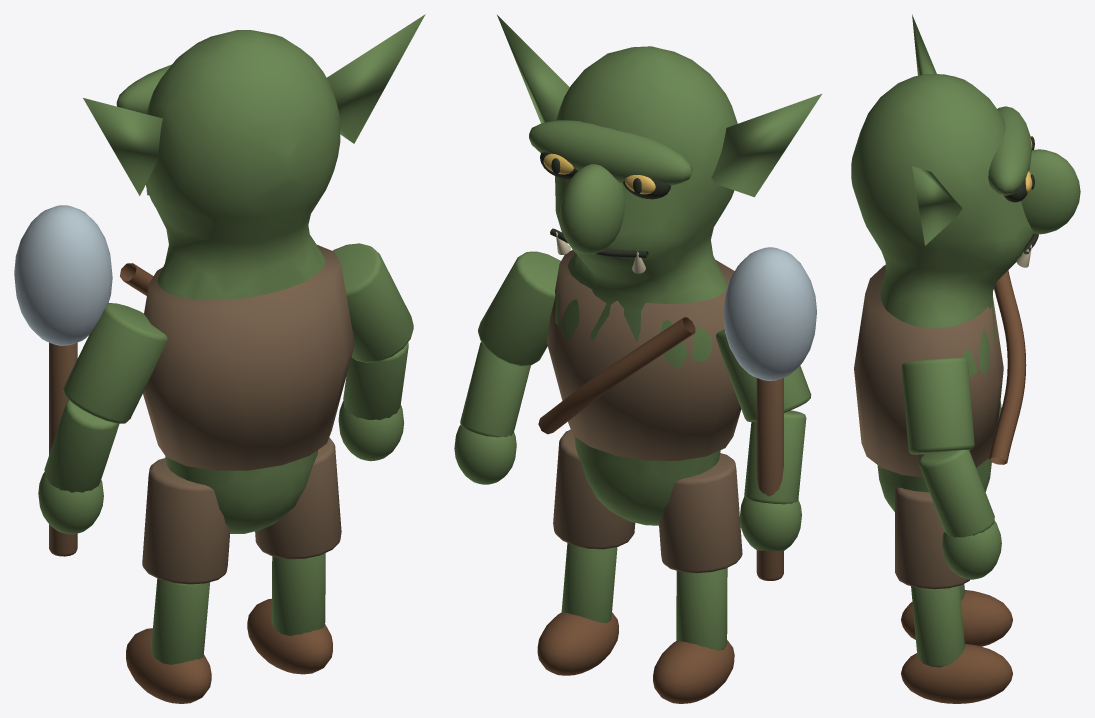
The model's file is forest_goblin.glb.
The picture shows the model from 3 angles, left to right: view 1: azimuth 30°, elevation 25°; view 2: azimuth 150°, elevation 25°; view 3: azimuth 270°, elevation 25°; orthographic projection. The views are drawn at different scales.
Parts seen in each view (by area): view 1: Lean goblin anatomy, Leather vest, Banded club head, Thigh, Upper arm, Upper arm.001, Thigh.001, Forearm, Swept pointed ear.001, Shin, Shin.001, Swept pointed ear (+8 smaller); view 2: Lean goblin anatomy, Leather vest, Banded club head, Thigh, Upper arm.001, Heavy brow, Swept pointed ear, Thigh.001, Long goblin nose, Forearm.001, Boot, Club shaft (+9 smaller); view 3: Lean goblin anatomy, Leather vest, Upper arm.001, Thigh.001, Forearm.001, Boot.001, Shin.001, Long goblin nose, Cross belt, Heavy brow, Boot, Hand.001 (+2 smaller).
Part boxes in pixels (left/top/right/bottom): Lean goblin anatomy: left=146, top=30, right=340, bottom=533; Leather vest: left=143, top=245, right=354, bottom=470; Banded club head: left=14, top=205, right=112, bottom=345; Thigh: left=142, top=458, right=229, bottom=584; Upper arm: left=63, top=303, right=167, bottom=423; Upper arm.001: left=333, top=243, right=413, bottom=362; Thigh.001: left=255, top=437, right=341, bottom=559; Forearm: left=44, top=399, right=119, bottom=492; Swept pointed ear.001: left=327, top=14, right=425, bottom=143; Shin: left=151, top=578, right=209, bottom=664; Shin.001: left=271, top=553, right=325, bottom=635; Swept pointed ear: left=83, top=98, right=162, bottom=195; Lean goblin anatomy: left=555, top=46, right=737, bottom=525; Leather vest: left=546, top=250, right=741, bottom=460; Banded club head: left=723, top=247, right=816, bottom=380; Thigh: left=659, top=453, right=742, bottom=573; Upper arm.001: left=478, top=251, right=560, bottom=366; Heavy brow: left=529, top=120, right=692, bottom=185; Swept pointed ear: left=711, top=94, right=821, bottom=197; Thigh.001: left=553, top=429, right=635, bottom=549; Long goblin nose: left=559, top=164, right=624, bottom=254; Forearm.001: left=460, top=342, right=530, bottom=437; Boot: left=653, top=640, right=734, bottom=703; Club shaft: left=756, top=378, right=783, bottom=580; Lean goblin anatomy: left=851, top=74, right=1033, bottom=511; Leather vest: left=854, top=265, right=1003, bottom=477; Upper arm.001: left=901, top=357, right=974, bottom=454; Thigh.001: left=895, top=487, right=969, bottom=589; Forearm.001: left=919, top=450, right=994, bottom=537; Boot.001: left=901, top=643, right=1012, bottom=703; Shin.001: left=911, top=585, right=964, bottom=667; Long goblin nose: left=1021, top=149, right=1080, bottom=234; Cross belt: left=989, top=270, right=1026, bottom=464; Heavy brow: left=988, top=106, right=1031, bottom=195; Boot: left=901, top=590, right=1012, bottom=646; Hand.001: left=942, top=521, right=1001, bottom=579.
Size of the model in its own units: 1.05 by 1.75 by 0.6118.
